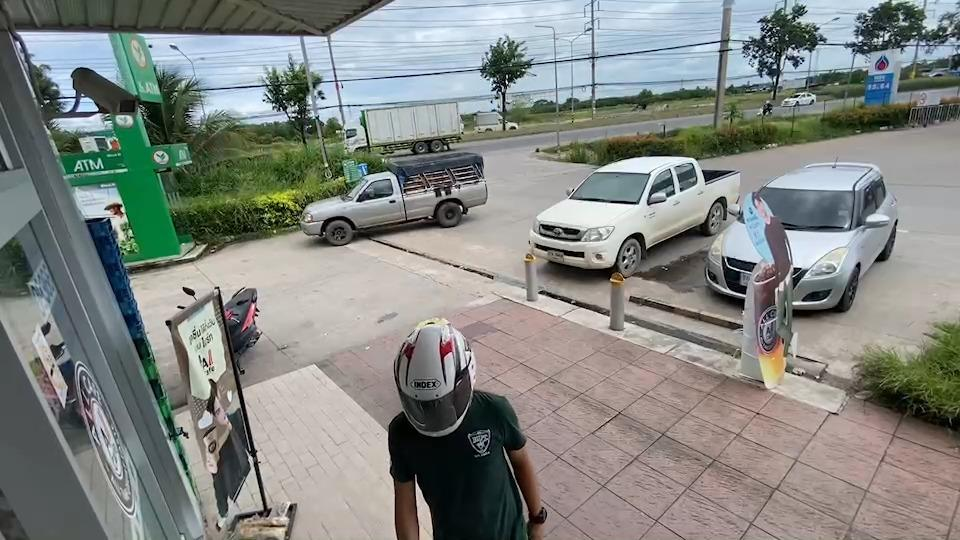criminal: (384, 318, 549, 540)
